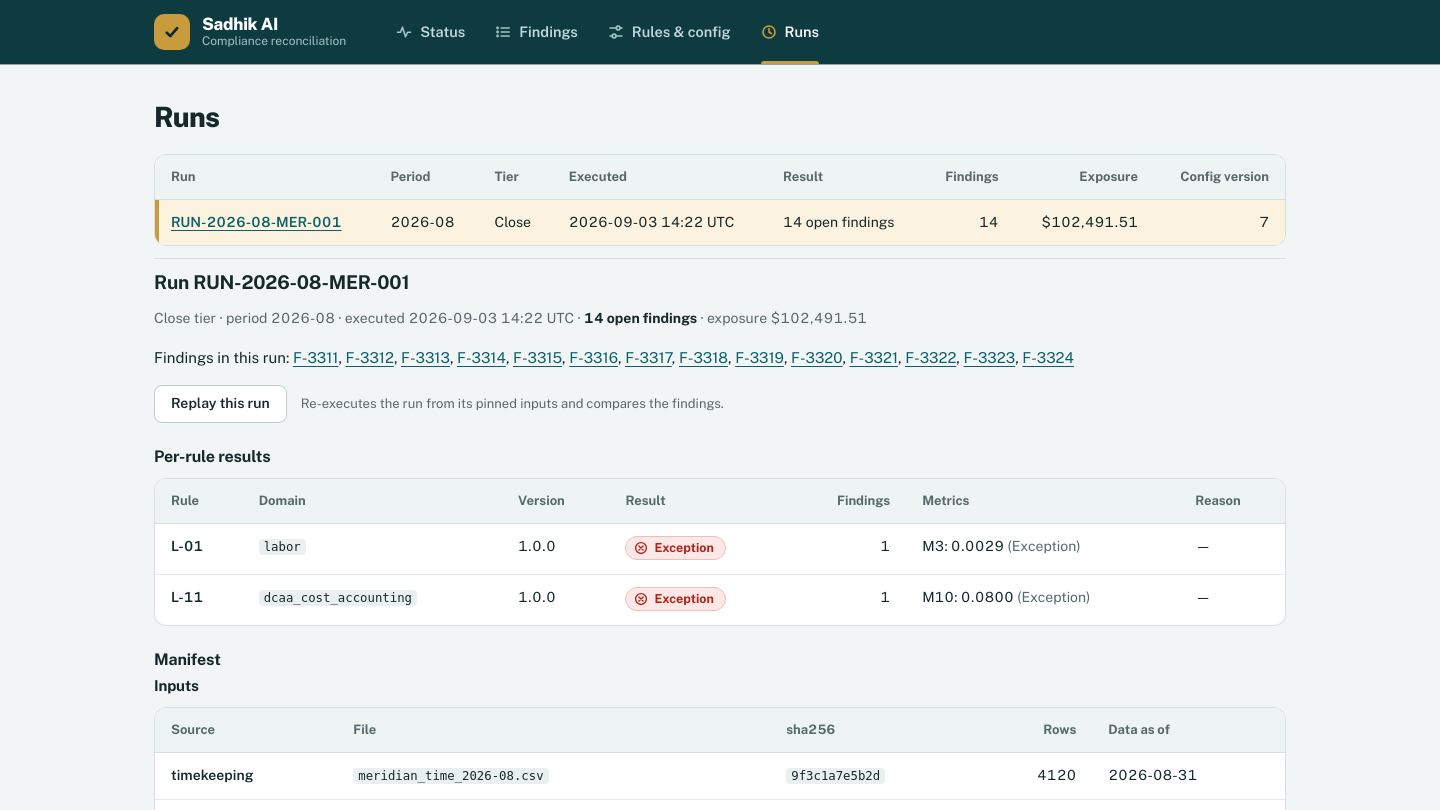
Test: runs › shows the diff when a replay is not identical
The width and height of the screenshot is (1440, 810).
Click the button "Replay this run": (220, 404) [154, 385, 287, 423]
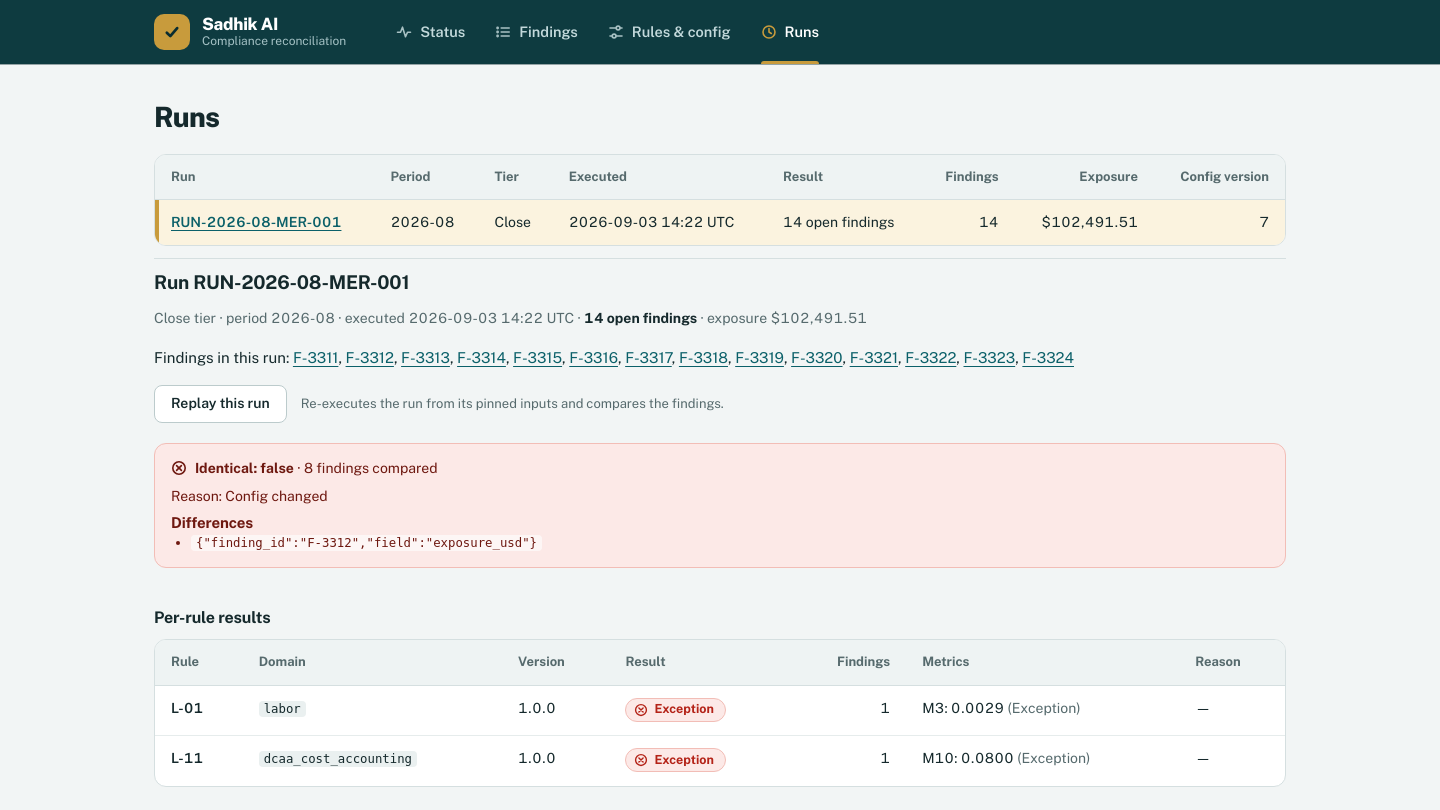
Check: the text "Identical: false" is shown, box [171, 460, 294, 476]
Check: the text "Reason: Config changed" is shown, box [171, 488, 328, 504]
Check: the text "{\"finding_id\":\"F-3312\",\"field\":\"exposure_usd\"}" is shown, box [191, 534, 542, 550]
